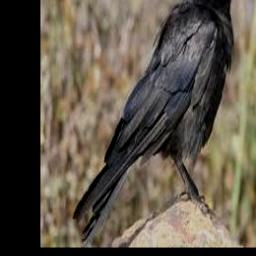Crow: (73, 0, 248, 248)
